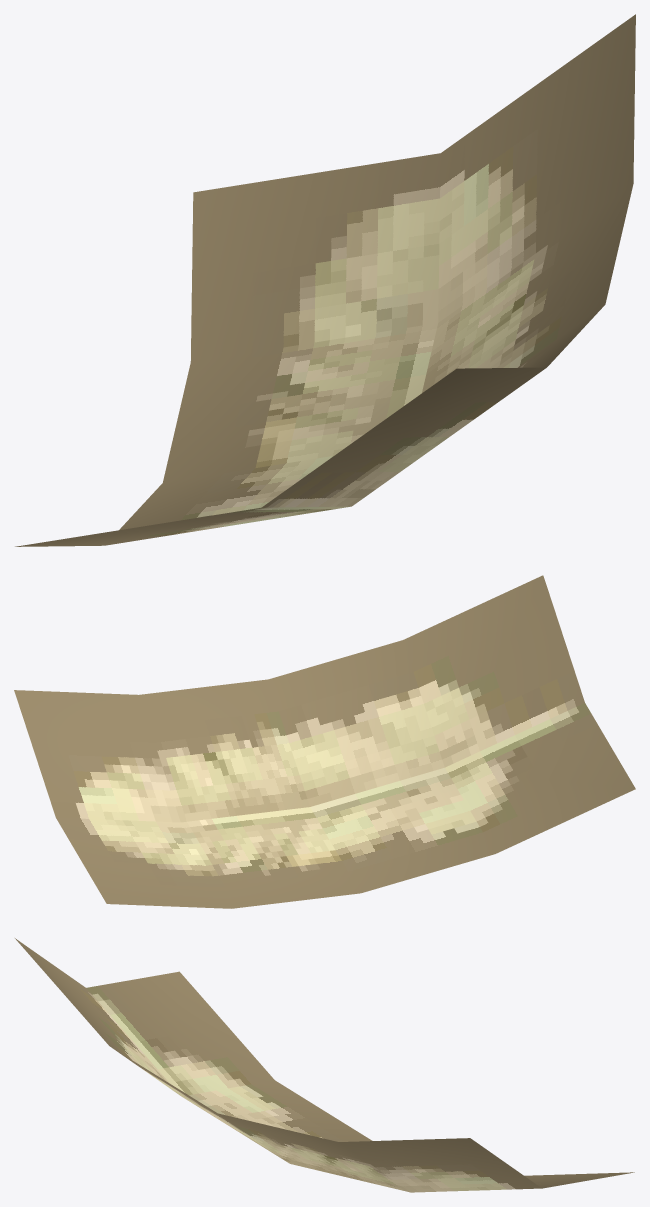
The model's file is cap_feather_wht.dae.
3 renders of one model, top to bottom at view 1: azimuth 30°, elevation 25°; view 2: azimuth 150°, elevation 25°; view 3: azimuth 270°, elevation 25°, orthographic. The views are drawn at different scales.
Parts seen in each view (by area): view 1: cap_feather_wht; view 2: cap_feather_wht; view 3: cap_feather_wht.
Part boxes in pixels (x1,y1,x2,y2): cap_feather_wht: (15,14,635,546); cap_feather_wht: (14,575,635,908); cap_feather_wht: (15,938,634,1192).
Size of the model in its own units: 12.55 by 4.77 by 13.08.
1 material, 1 textured.
